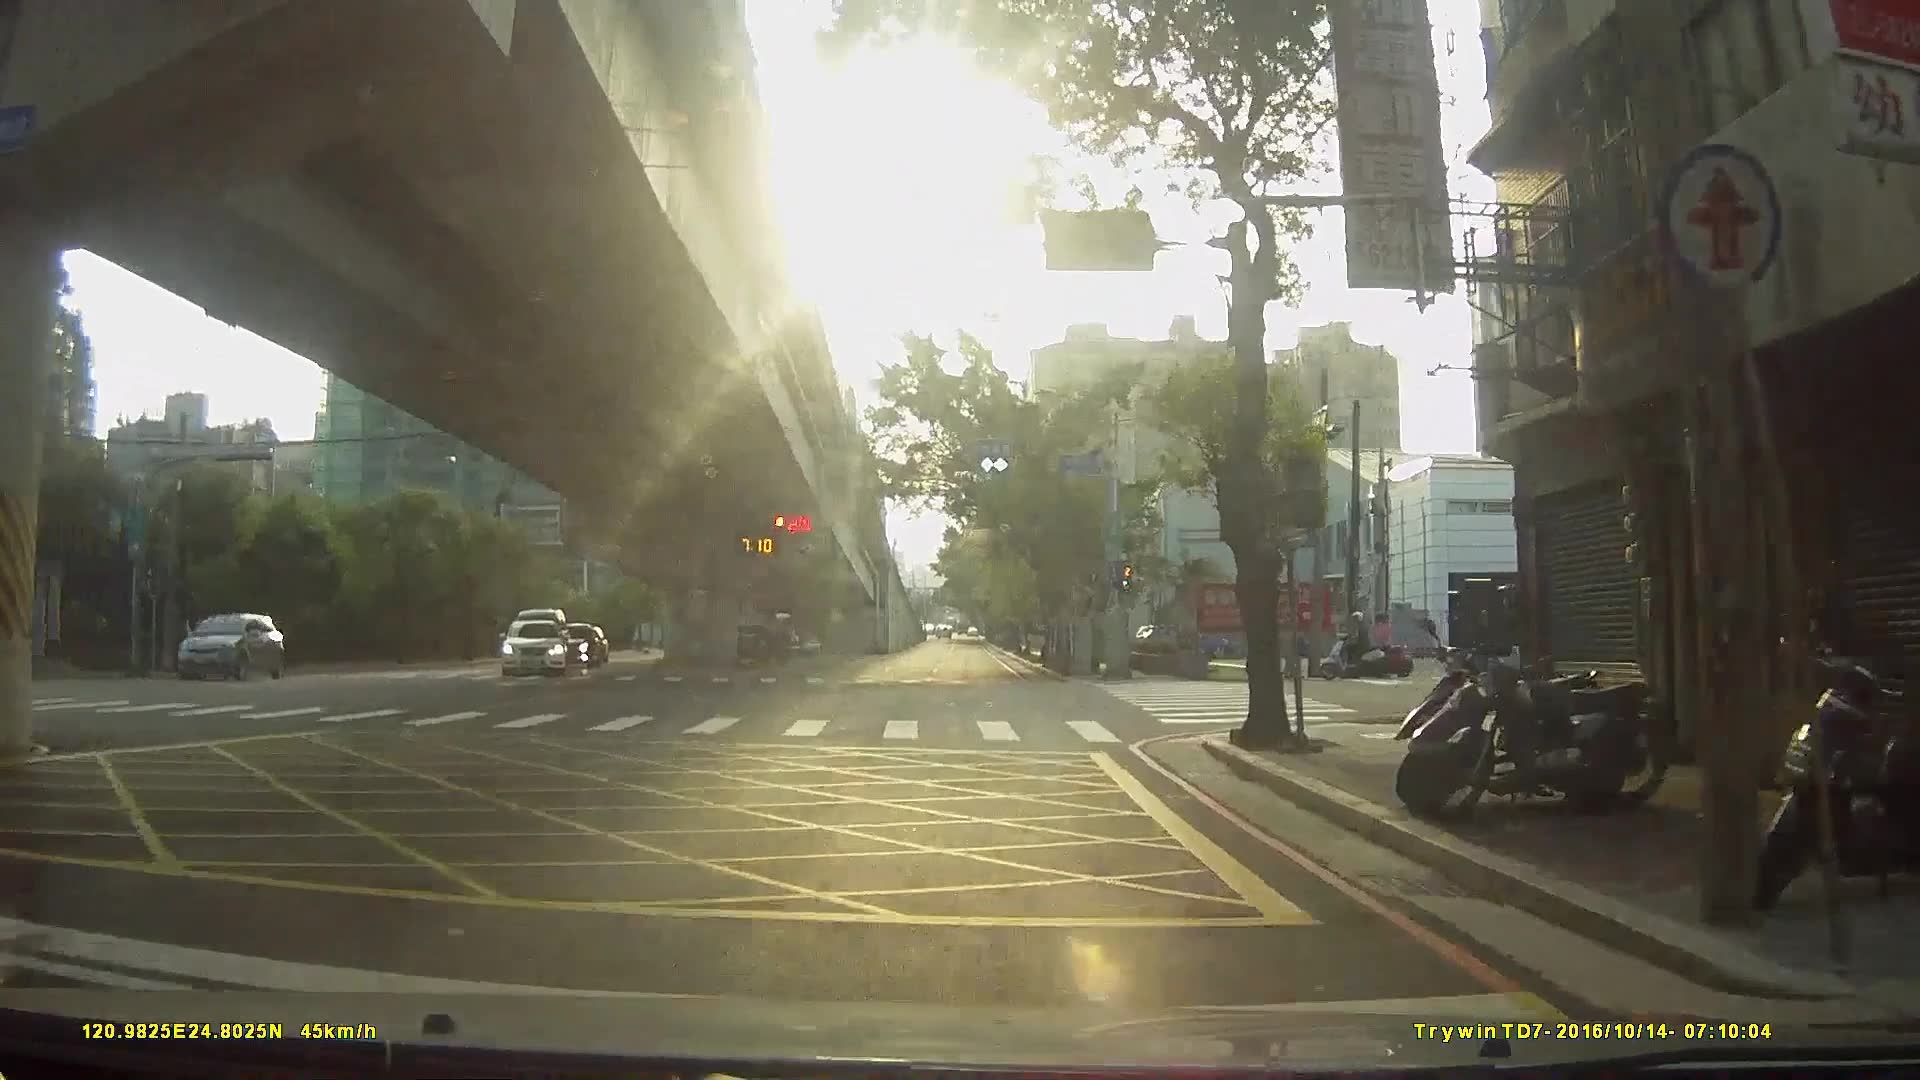rider: (1320, 611, 1389, 679)
vehicle: (159, 610, 287, 679), (492, 618, 565, 678), (711, 617, 797, 662), (544, 621, 598, 667)
